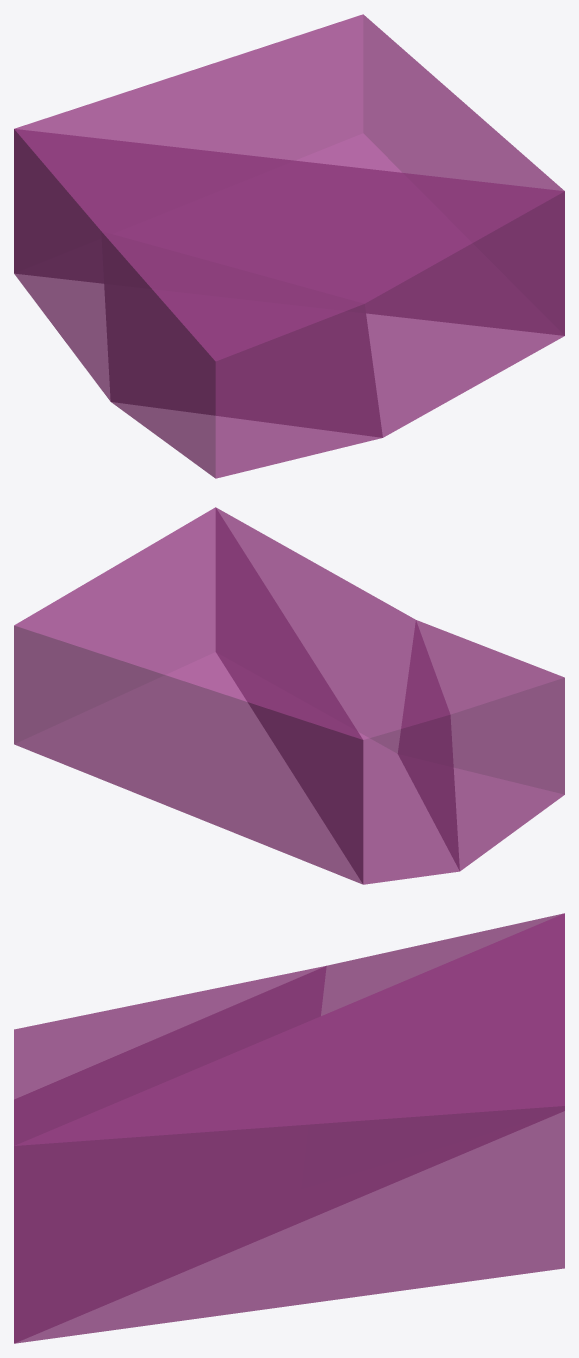
File: SM_Bld_Roof_Corner_Small_02_Collision_01.fbx
3 views of the same model, one above another, from view 1: azimuth 30°, elevation 25°; view 2: azimuth 150°, elevation 25°; view 3: azimuth 270°, elevation 25° (orthographic). The views are drawn at different scales.
Visible parts, largest first — view 1: SM_Bld_Roof_Corner_Small_02_Collision_01; view 2: SM_Bld_Roof_Corner_Small_02_Collision_01; view 3: SM_Bld_Roof_Corner_Small_02_Collision_01.
Boxes of the visible parts, bbox=[...] form: SM_Bld_Roof_Corner_Small_02_Collision_01: bbox=[14, 14, 564, 478]; SM_Bld_Roof_Corner_Small_02_Collision_01: bbox=[14, 507, 564, 884]; SM_Bld_Roof_Corner_Small_02_Collision_01: bbox=[14, 913, 564, 1343].
Bounding box in the file's own units: 138 × 87.63 × 138.
